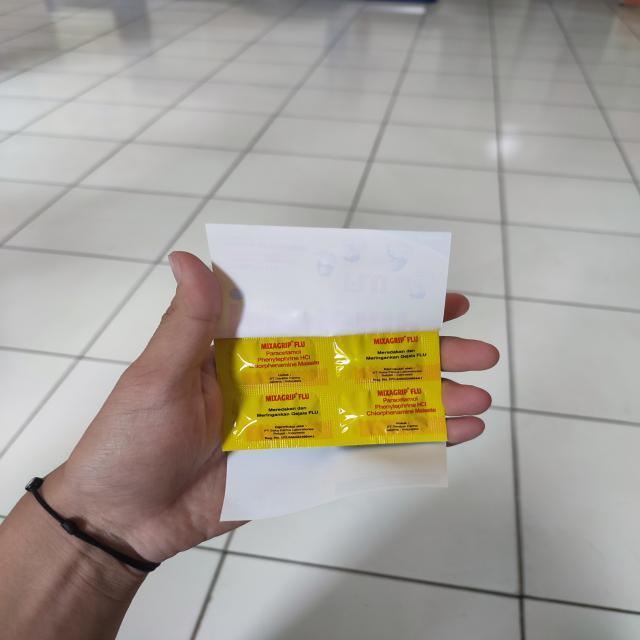B3: (209, 223, 452, 518)
